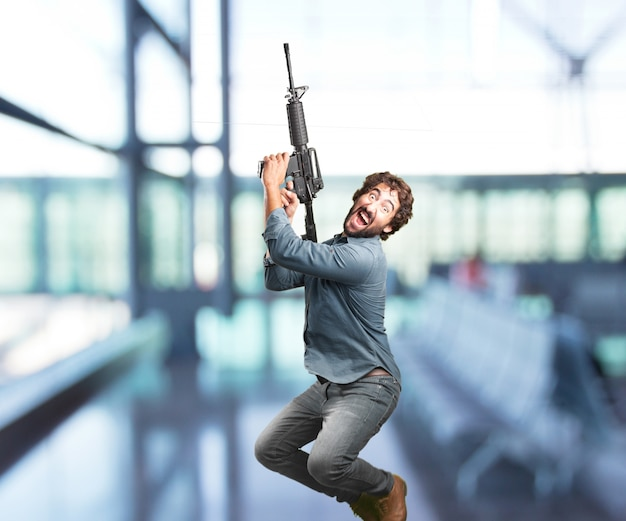gun: (259, 40, 324, 241)
